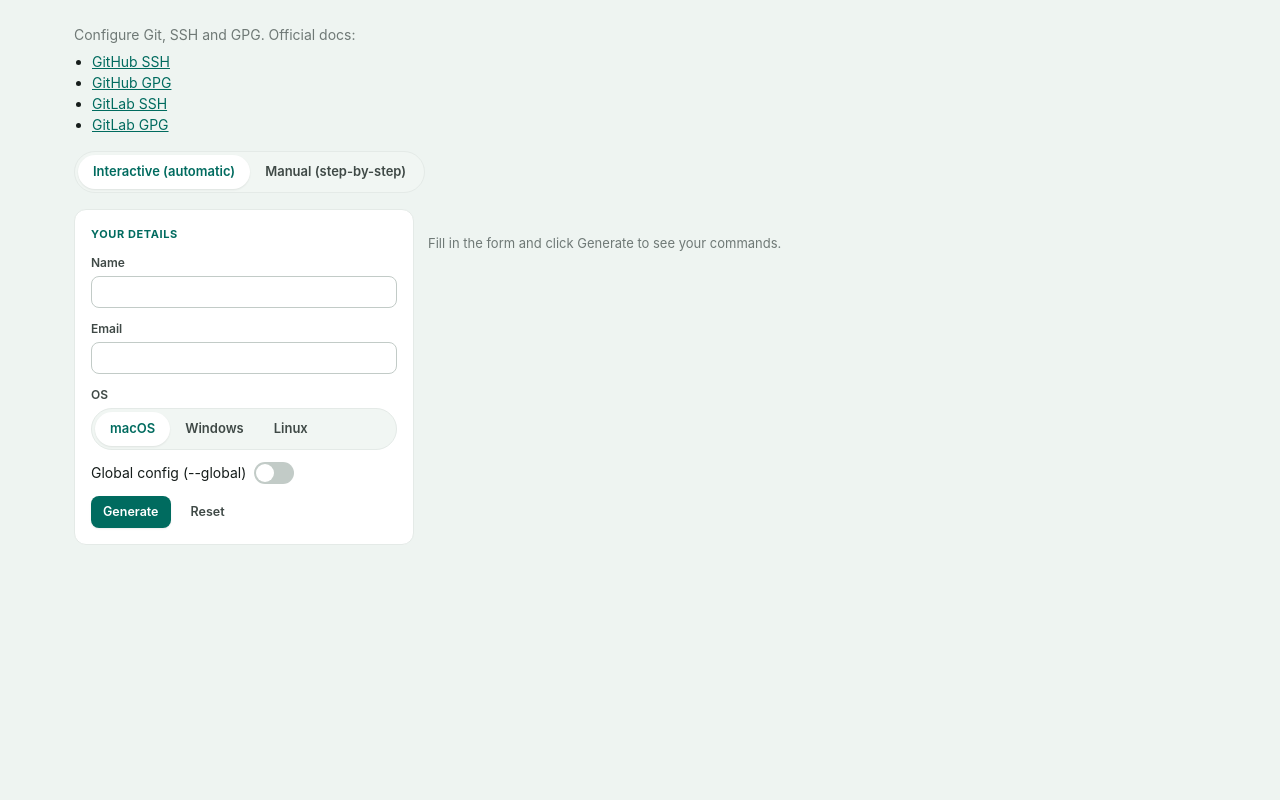
Test: Git Cheat Sheet page › Manual mode shows all step headings
Click the button "Manual (step-by-step)". click: (336,172)
box: [250,155,421,188]
(page scrolled)
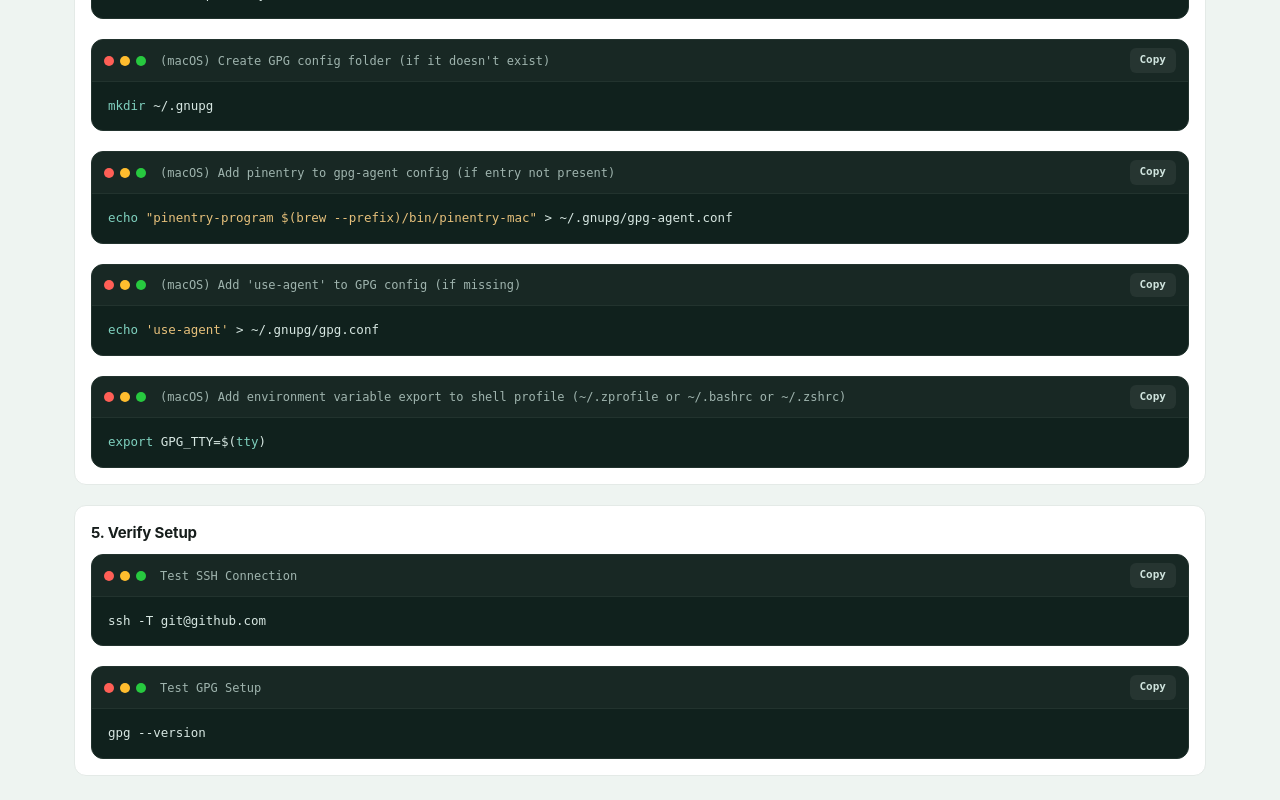
Now the heading "5. Verify Setup" is shown, box [91,523,197,542]
